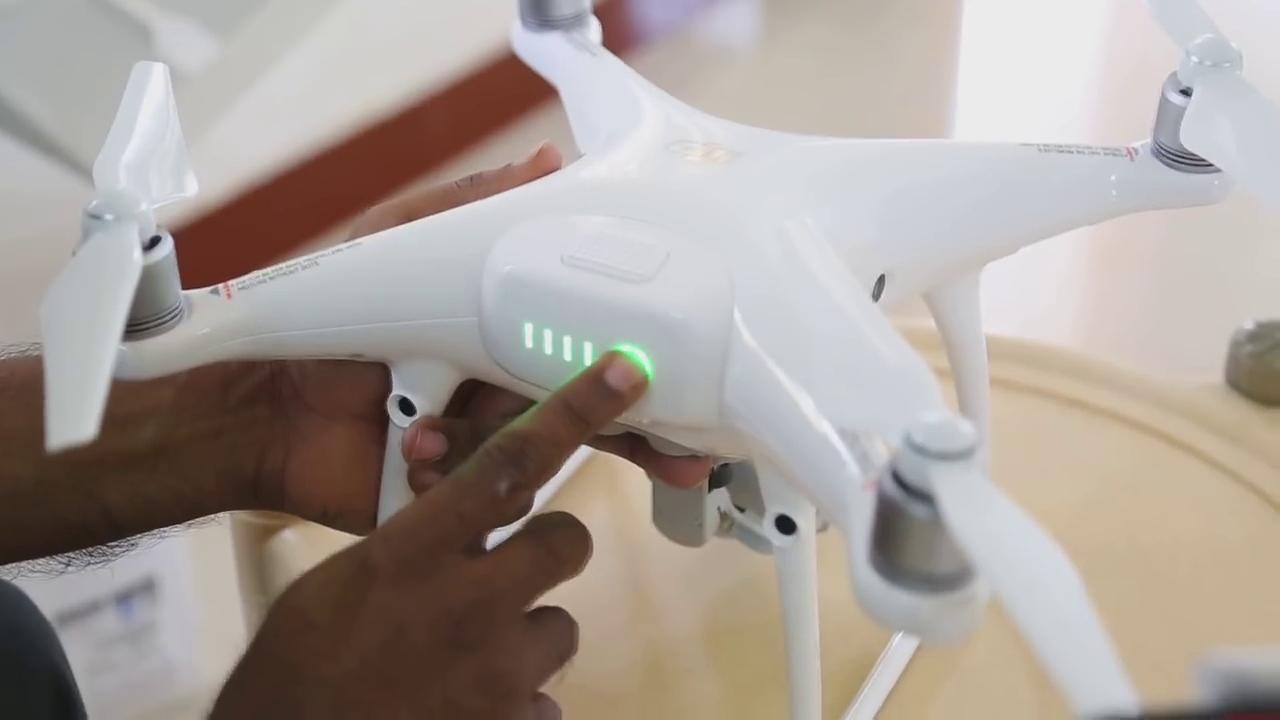drone: (35, 5, 1280, 685)
